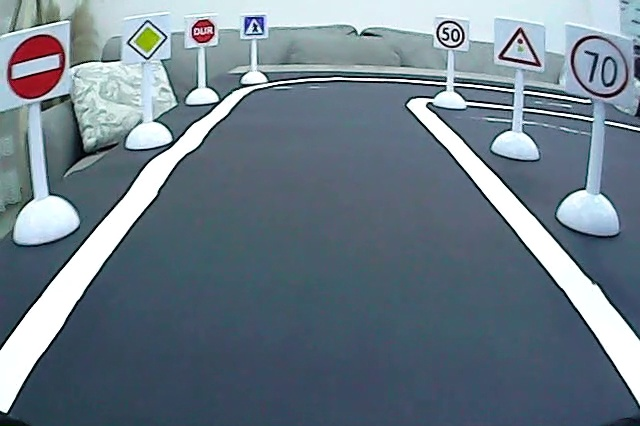do not enter: (3, 31, 66, 103)
pedestrian crossing: (242, 14, 266, 38)
red light: (494, 23, 544, 70)
speed limit 50: (436, 18, 467, 49)
speed limit 70: (570, 33, 631, 102)
stop sign: (189, 16, 218, 46)
